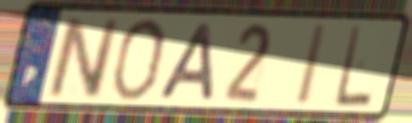2: (221, 21, 273, 106)
A: (153, 21, 217, 102)
I: (294, 21, 330, 108)
L: (333, 22, 375, 109)
N: (46, 14, 121, 101)
O: (108, 16, 169, 103)
